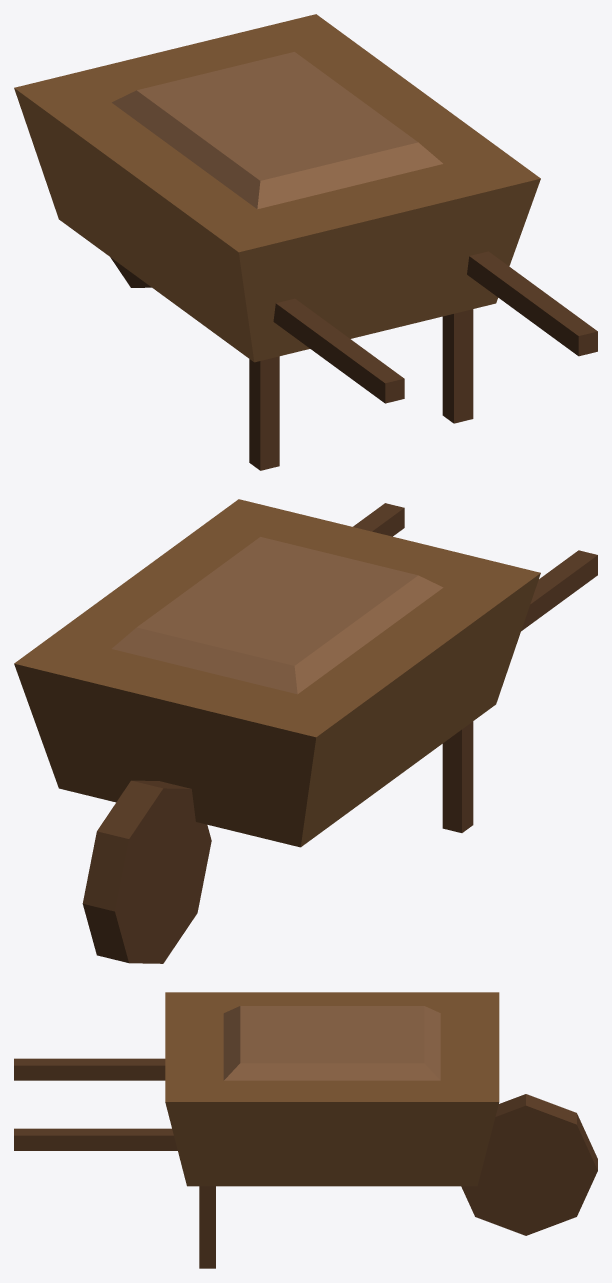
File: PR_Wheelbarrow.fbx
The picture shows the model from 3 angles, top to bottom: view 1: azimuth 30°, elevation 25°; view 2: azimuth 150°, elevation 25°; view 3: azimuth 270°, elevation 25°; orthographic projection. The views are drawn at different scales.
Visible parts, largest first — view 1: PR_Wheelbarrow; view 2: PR_Wheelbarrow; view 3: PR_Wheelbarrow.
Part boxes in pixels (left/top/right/bottom): PR_Wheelbarrow: left=14, top=14, right=597, bottom=470; PR_Wheelbarrow: left=14, top=499, right=597, bottom=963; PR_Wheelbarrow: left=14, top=992, right=597, bottom=1268.
Bounding box in the file's own units: 0.9375 × 2.11 × 0.78.
